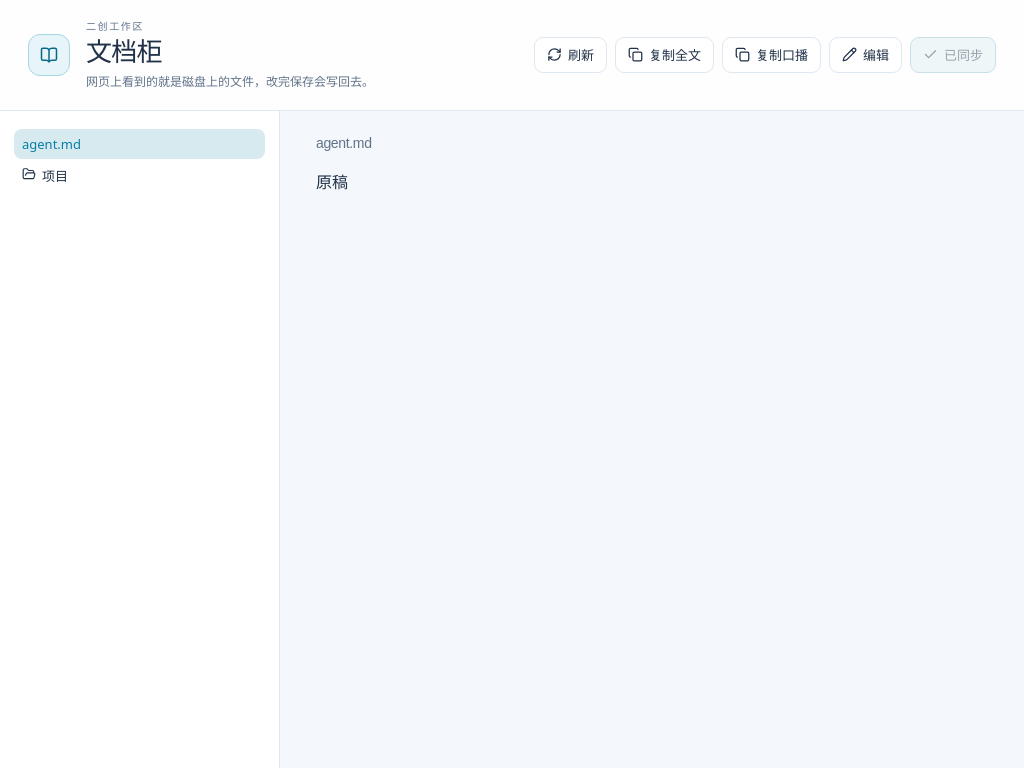
Scenario: keeps the draft when the server reports a revision conflict
This screenshot has width=1024, height=768.
expect the text "原稿" is shown: met, box [316, 171, 348, 193]
Click the button "编辑".
click(866, 55)  # box [829, 37, 902, 73]
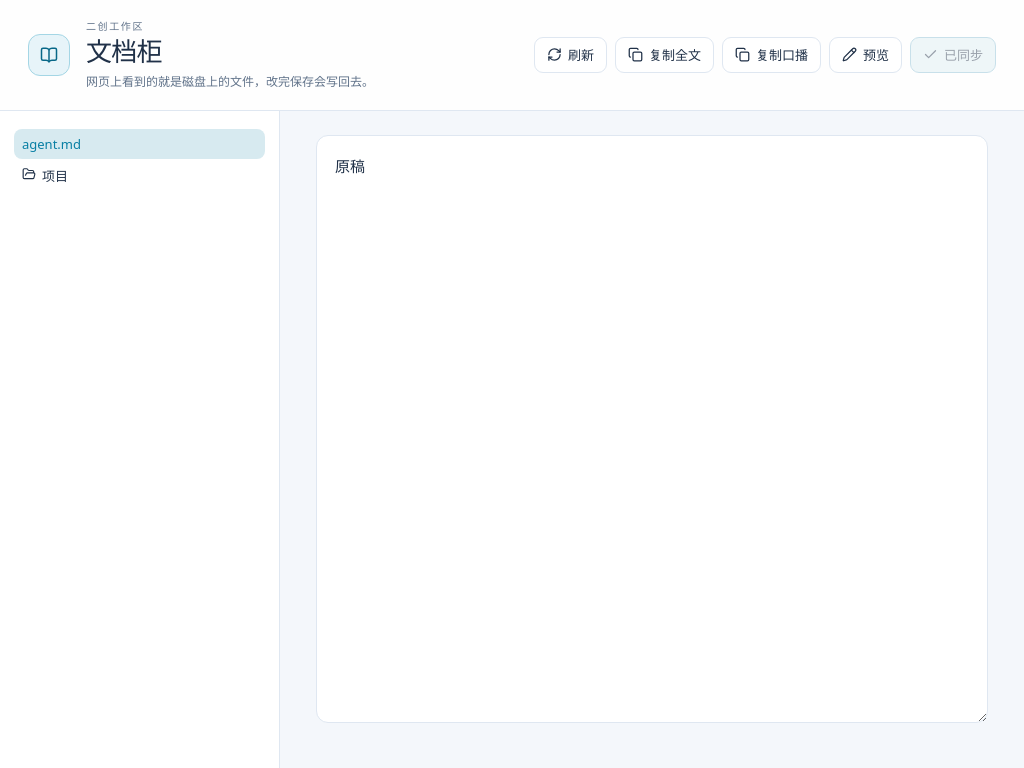
Replace the text in the text box named "编辑文档" with "不能丢的草稿" at (652, 429), box [316, 135, 988, 723]
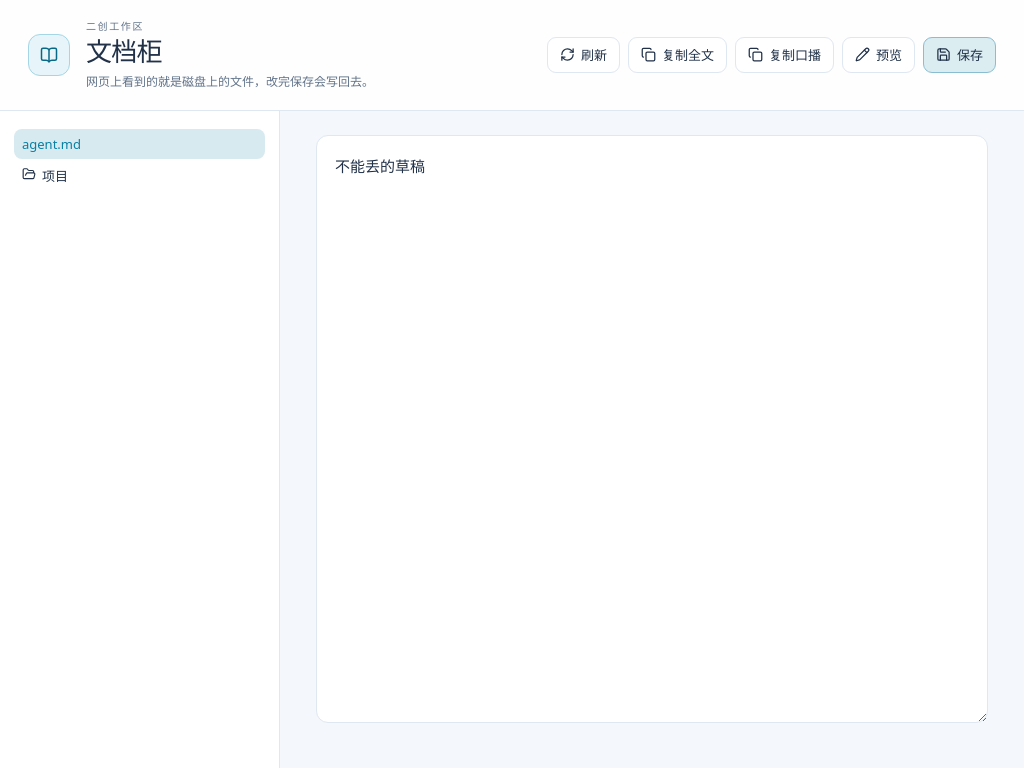
Click the button "保存".
click(960, 55)  # box [923, 37, 996, 73]
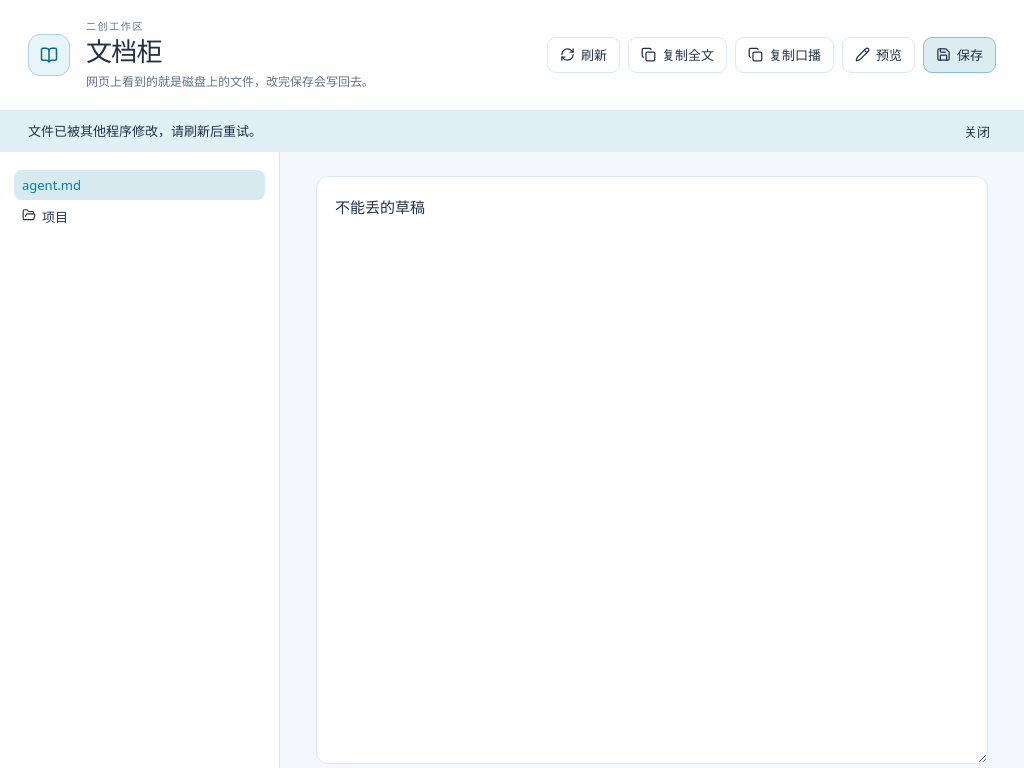
expect the button "保存" is enabled: met, box [923, 37, 996, 73]
expect the text "文件已被其他程序修改，请刷新后重试。" is shown: met, box [28, 122, 262, 140]
